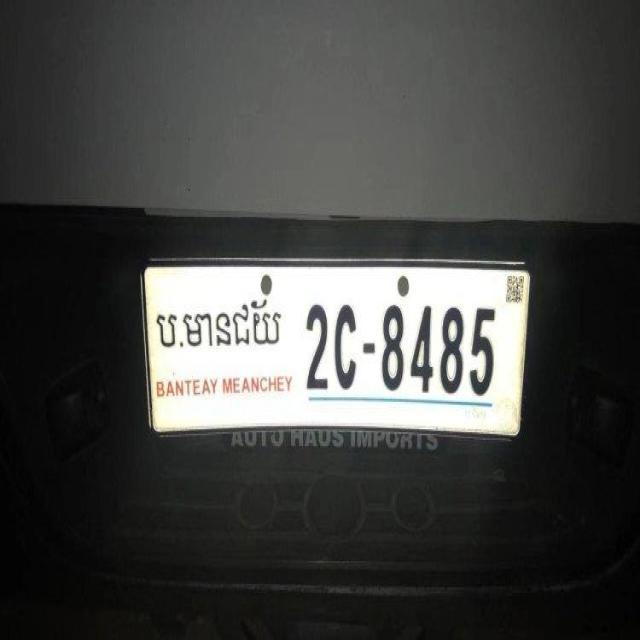Banteay_Meanchey: (157, 297, 282, 356)
